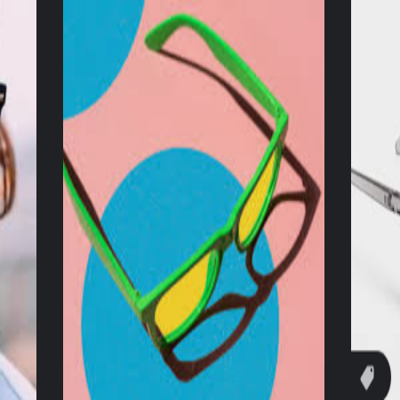glasses: (63, 11, 321, 350)
